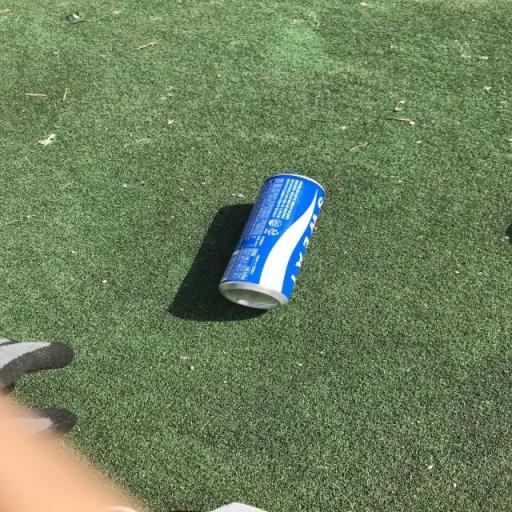metal: (200, 157, 336, 326)
